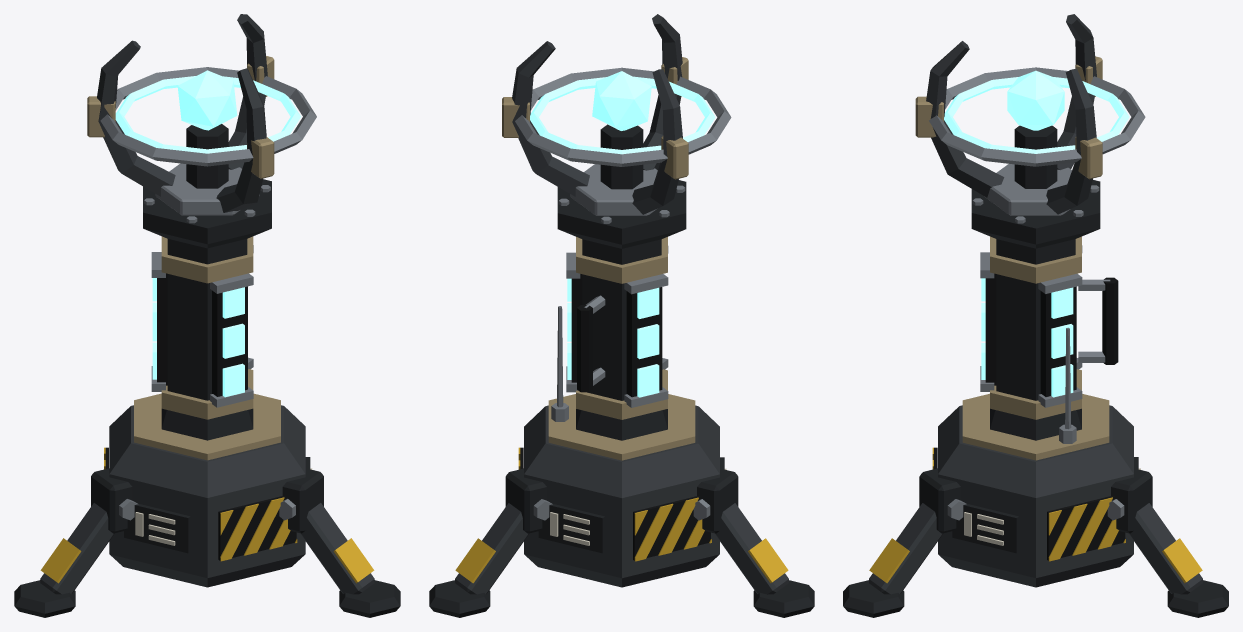
The model's file is shield_emitter.fbx.
The picture shows the model from 3 angles, left to right: view 1: azimuth 30°, elevation 25°; view 2: azimuth 150°, elevation 25°; view 3: azimuth 270°, elevation 25°; orthographic projection.
Parts seen in each view (by area): view 1: Body, Head, Emitter, Cells; view 2: Body, Head, Emitter, Cells; view 3: Body, Head, Emitter, Cells.
Boxes of the visible parts, x1,y1,x2,y2 form: Body: [14, 179, 400, 617]; Head: [87, 14, 316, 215]; Emitter: [115, 70, 300, 153]; Cells: [152, 278, 244, 397]; Body: [429, 180, 814, 617]; Head: [502, 14, 731, 215]; Emitter: [530, 71, 715, 154]; Cells: [567, 278, 659, 397]; Body: [843, 180, 1228, 617]; Head: [915, 14, 1145, 215]; Emitter: [944, 70, 1129, 153]; Cells: [981, 278, 1073, 397].
Bounding box in the file's own units: 199 × 327 × 218.
4 materials, 2 textured.
